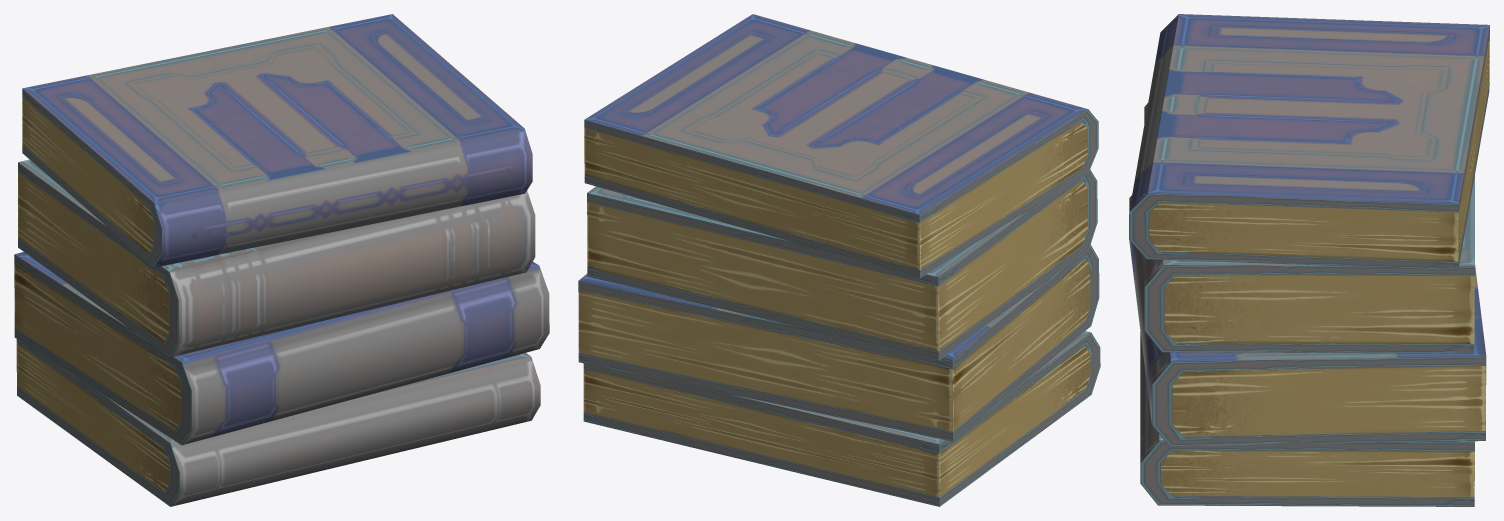
The model's file is Book_Stack_1.fbx.
3 views of the same model, side by side, from view 1: azimuth 30°, elevation 25°; view 2: azimuth 150°, elevation 25°; view 3: azimuth 270°, elevation 25° (orthographic). The views are drawn at different scales.
Parts seen in each view (by area): view 1: Book_Stack_1; view 2: Book_Stack_1; view 3: Book_Stack_1.
Part boxes in pixels (x1,y1,x2,y2): Book_Stack_1: (14, 14, 549, 506); Book_Stack_1: (578, 14, 1100, 506); Book_Stack_1: (1129, 14, 1489, 506).
Size of the model in its own units: 28.49 by 21.37 by 22.63.
